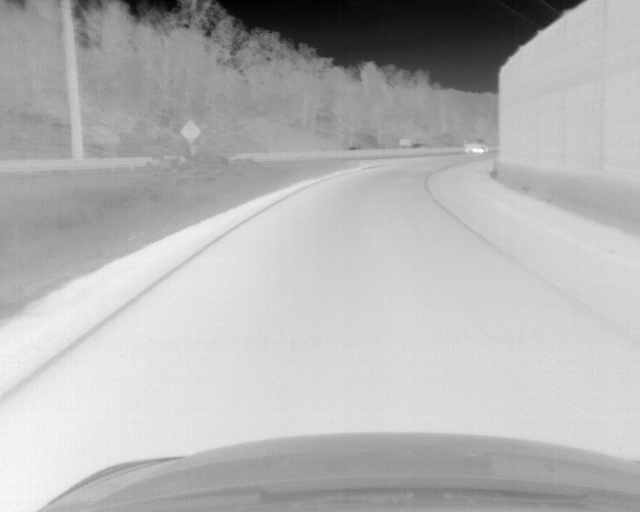car: (462, 136, 491, 153)
